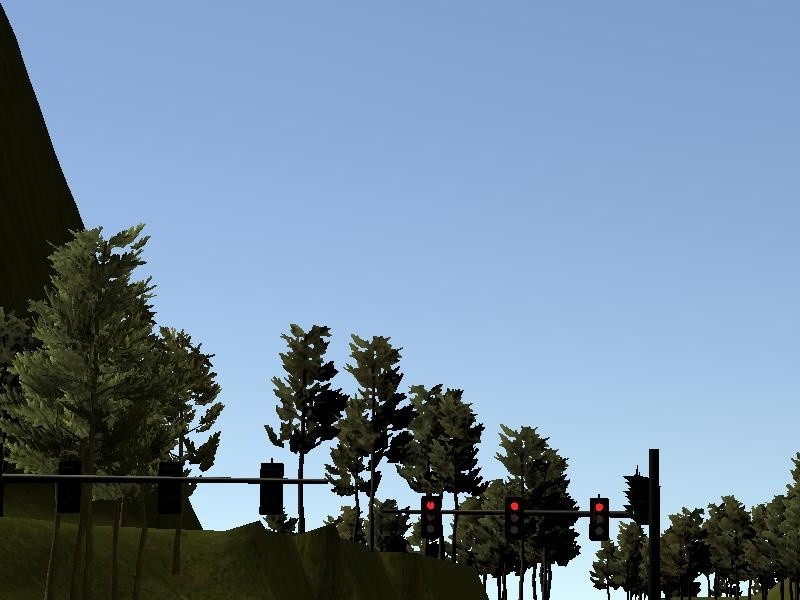traffic_light_red: (412, 494, 621, 543)
